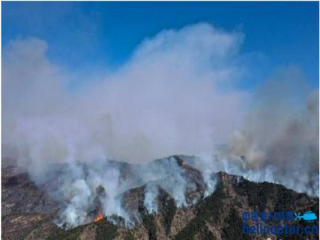fire: (91, 210, 107, 224)
smoke: (32, 47, 312, 201)
